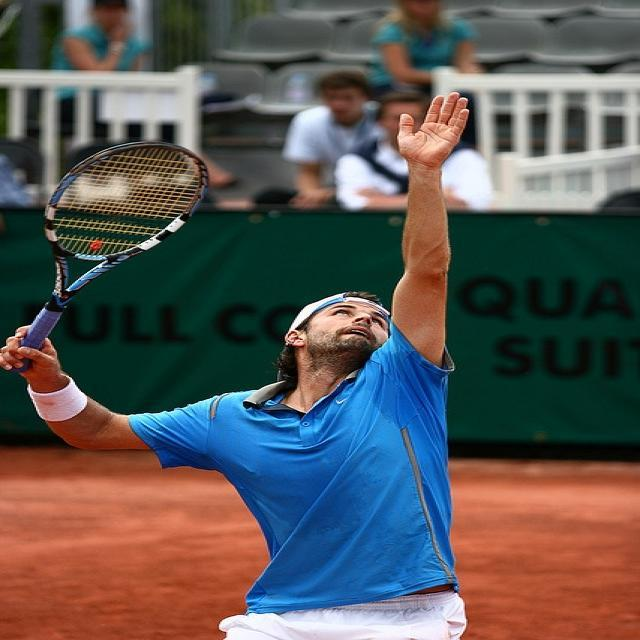person: (0, 91, 469, 639), (331, 81, 493, 211), (282, 69, 380, 208), (367, 0, 481, 88), (47, 0, 146, 70)
